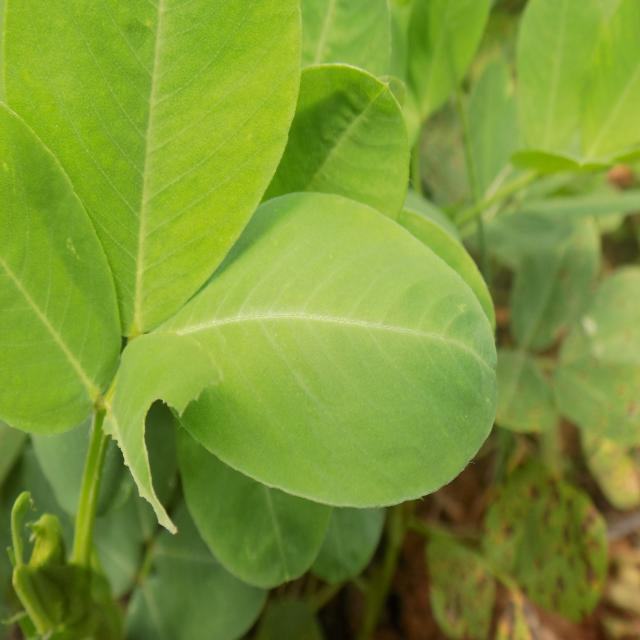Ground nut_healthy: (137, 195, 495, 510)
